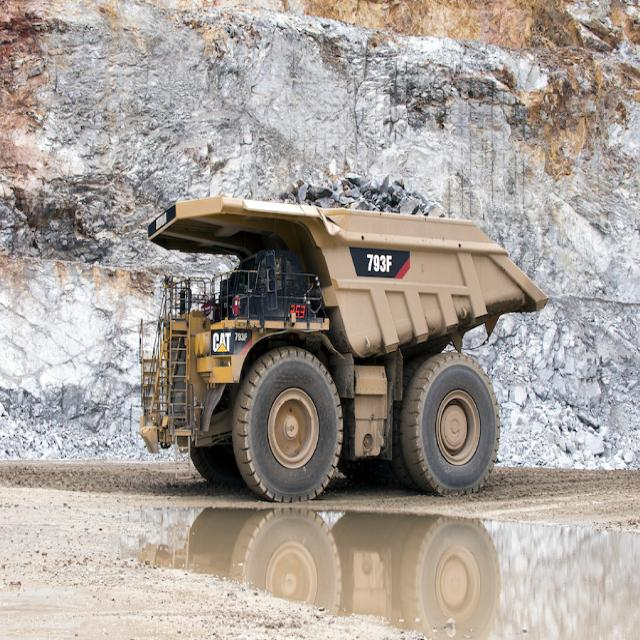dump_truck: (131, 177, 561, 503)
